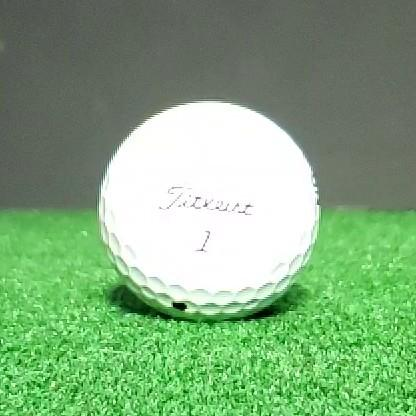golfball: (99, 101, 320, 321)
